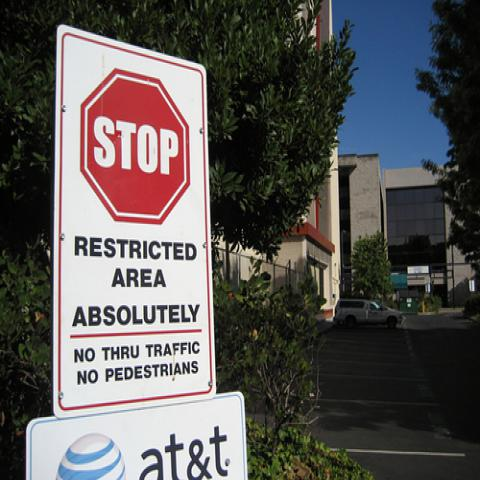truck: (330, 297, 406, 329)
